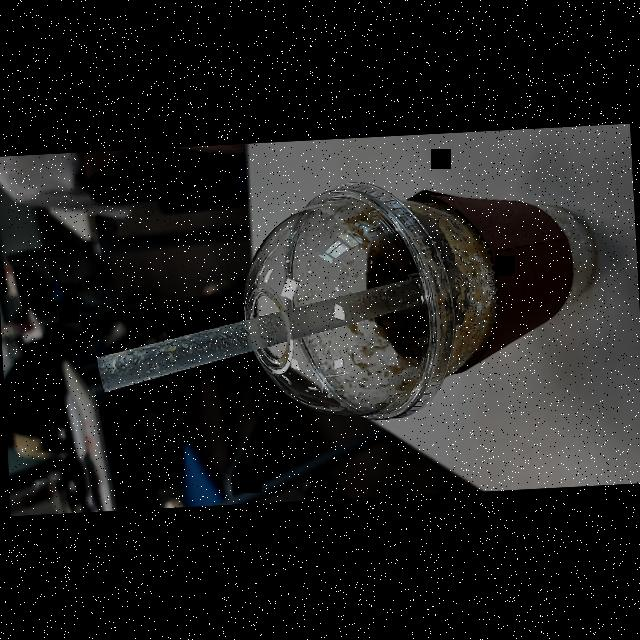plastic_cup: (234, 167, 610, 430)
plastic_cup_lid: (236, 176, 460, 435)
straw: (92, 266, 450, 393)
